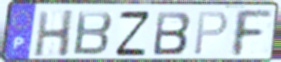B: (71, 10, 114, 57), (152, 10, 193, 57)
F: (232, 8, 274, 59)
H: (33, 8, 76, 59)
P: (192, 10, 230, 57)
Z: (114, 10, 152, 58)
